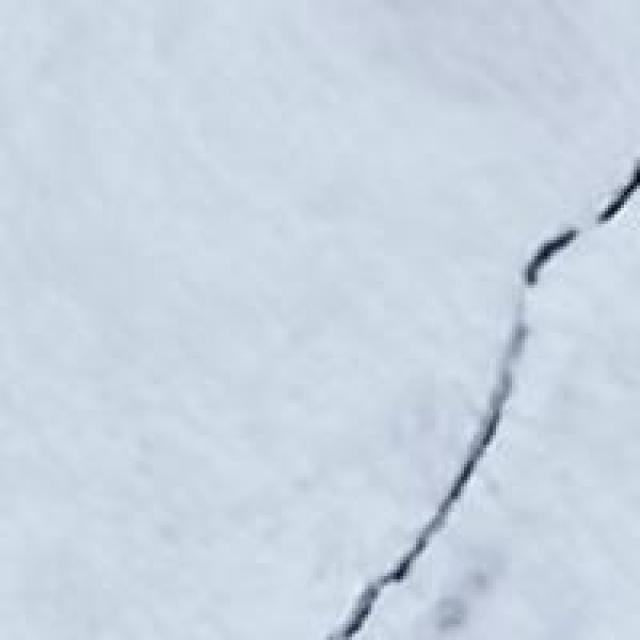crack: (301, 141, 637, 637)
